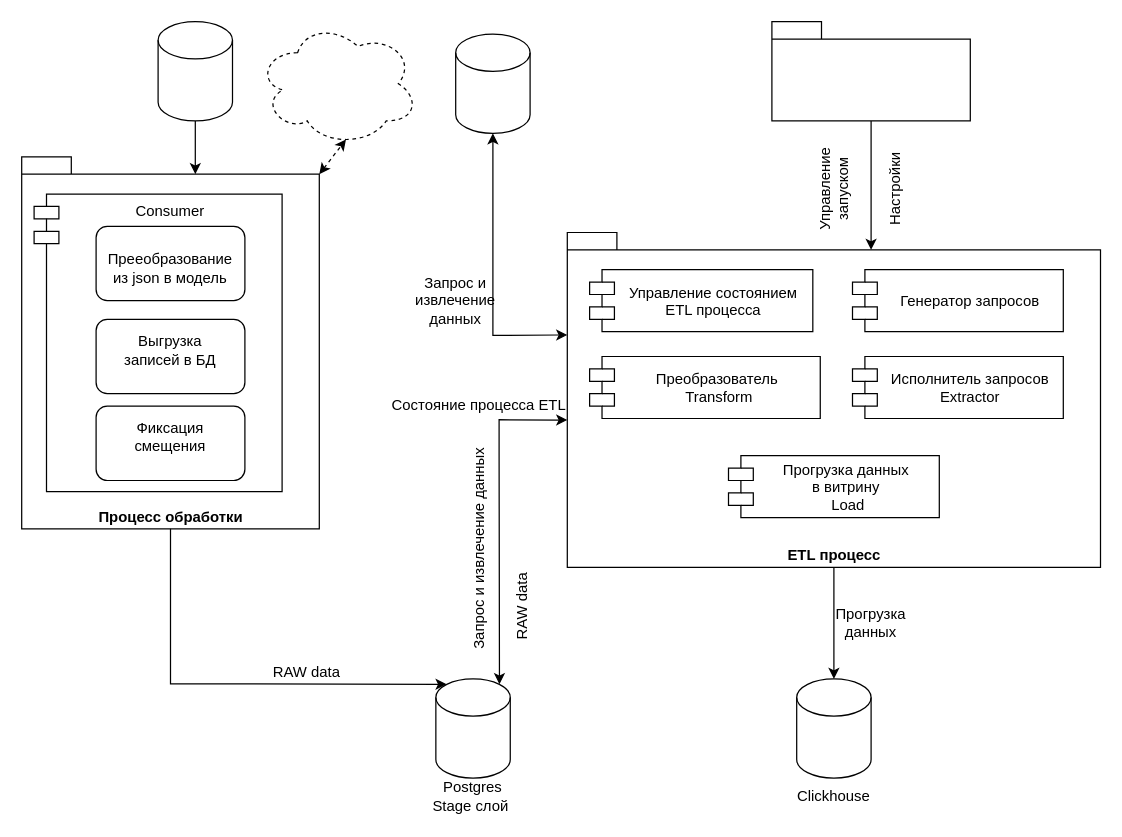
Some shapes in this 1122 by 837 pixel diagram are drawn without their labels. The shapes that lost their labels are listed below. From the top down, each one's centre as x and y in pixels, then its label:
At (x=194, y=70): "Kafka".
At (x=337, y=83): "Процесс буферизации сообщений из Kafka".
At (x=492, y=83): "Auth".
At (x=870, y=70): "ETL-система(Airflow)".
